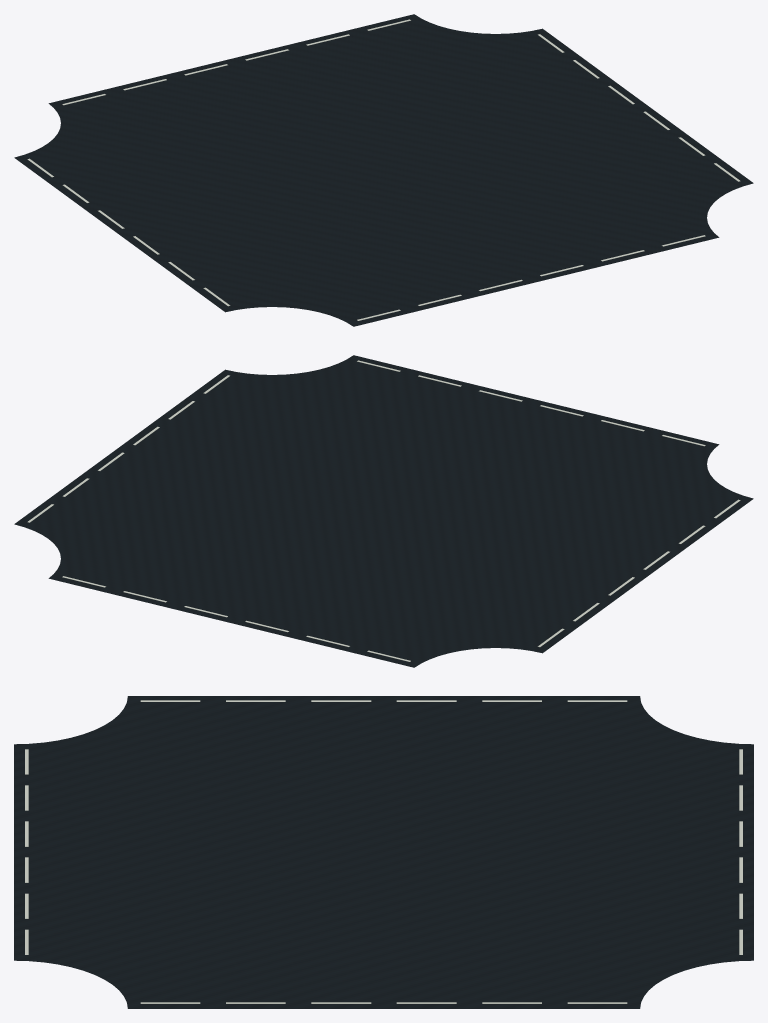
Rendered from Transit_Road_6L_XJunction_R4.glb.
3 views of the same model, one above another, from view 1: azimuth 30°, elevation 25°; view 2: azimuth 150°, elevation 25°; view 3: azimuth 270°, elevation 25° (orthographic). The views are drawn at different scales.
Parts seen in each view (by area): view 1: Transit_Road_6L_XJunction_R4_Surface, Transit_Road_6L_XJunction_R4_MarkStop3, Transit_Road_6L_XJunction_R4_MarkStop2; view 2: Transit_Road_6L_XJunction_R4_Surface, Transit_Road_6L_XJunction_R4_MarkStop2, Transit_Road_6L_XJunction_R4_MarkStop3; view 3: Transit_Road_6L_XJunction_R4_Surface, Transit_Road_6L_XJunction_R4_MarkStop0, Transit_Road_6L_XJunction_R4_MarkStop1, Transit_Road_6L_XJunction_R4_MarkStop2, Transit_Road_6L_XJunction_R4_MarkStop3.
Boxes of the visible parts, x1,y1,x2,y2 form: Transit_Road_6L_XJunction_R4_Surface: [14, 14, 753, 326]; Transit_Road_6L_XJunction_R4_MarkStop3: [62, 19, 410, 105]; Transit_Road_6L_XJunction_R4_MarkStop2: [357, 235, 705, 320]; Transit_Road_6L_XJunction_R4_Surface: [14, 355, 753, 667]; Transit_Road_6L_XJunction_R4_MarkStop2: [357, 360, 705, 446]; Transit_Road_6L_XJunction_R4_MarkStop3: [62, 576, 410, 661]; Transit_Road_6L_XJunction_R4_Surface: [14, 696, 753, 1008]; Transit_Road_6L_XJunction_R4_MarkStop0: [140, 700, 627, 701]; Transit_Road_6L_XJunction_R4_MarkStop1: [140, 1002, 627, 1003]; Transit_Road_6L_XJunction_R4_MarkStop2: [25, 749, 28, 954]; Transit_Road_6L_XJunction_R4_MarkStop3: [739, 749, 742, 954].
Bounding box in the file's own units: 26 × 0.0165 × 26.
2 materials, 1 textured.
